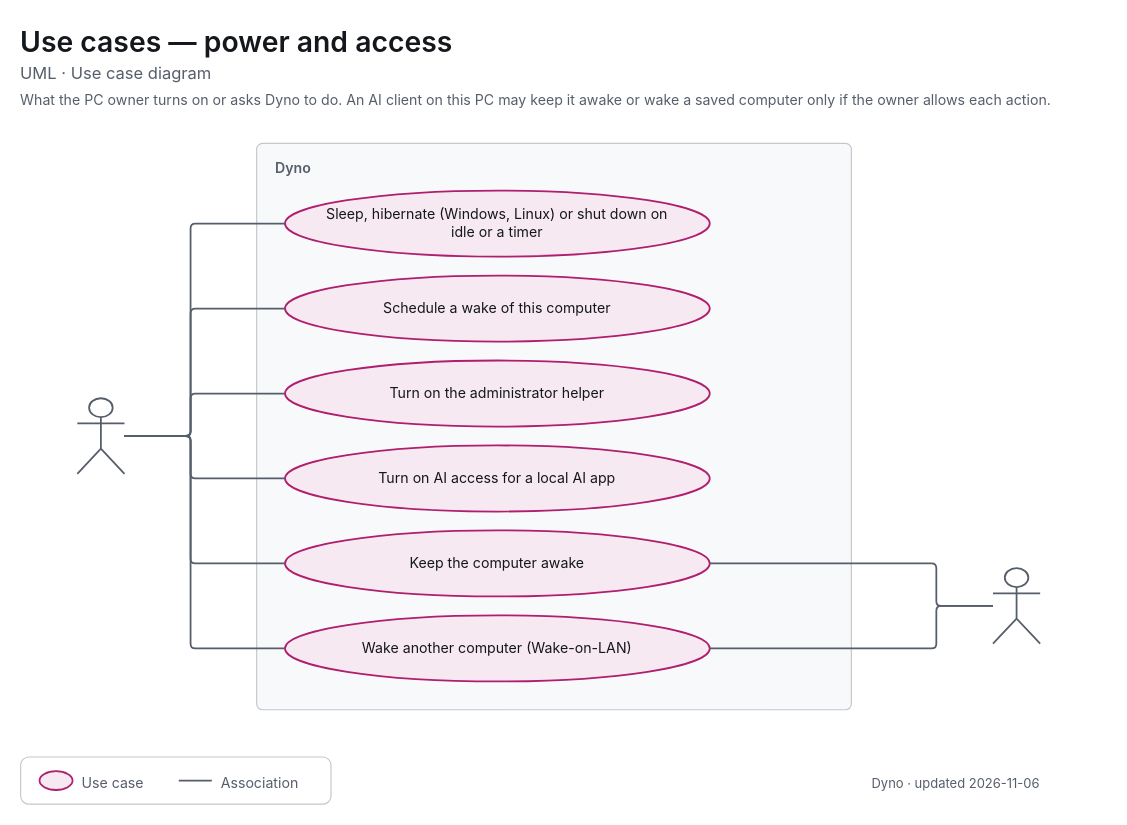
This 1127x825 diagram has some shape labels left out. Each missing label, with the centre of its shape:
"AI client (if allowed)" goes at (x=1016, y=605).
"PC owner" goes at (x=100, y=435).
